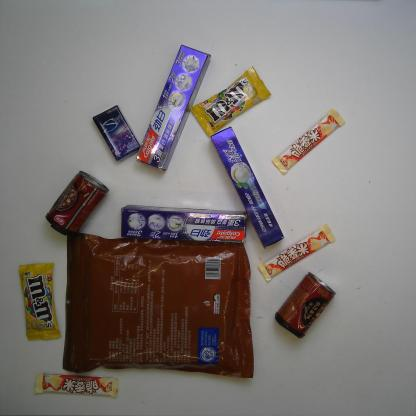Canned Food: (44, 170, 110, 236), (274, 271, 336, 341)
Chocolate: (188, 63, 272, 138), (271, 107, 346, 177), (256, 222, 337, 285), (16, 259, 62, 344), (31, 368, 120, 402)
Dried Food: (60, 230, 257, 383)
Gum: (93, 105, 141, 162)
Personal Hygiene: (136, 44, 212, 172), (210, 127, 288, 249), (119, 202, 249, 245)
